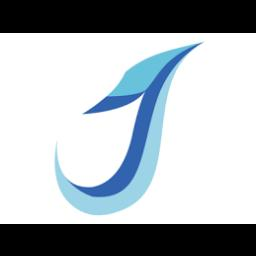j: (44, 36, 208, 224)
